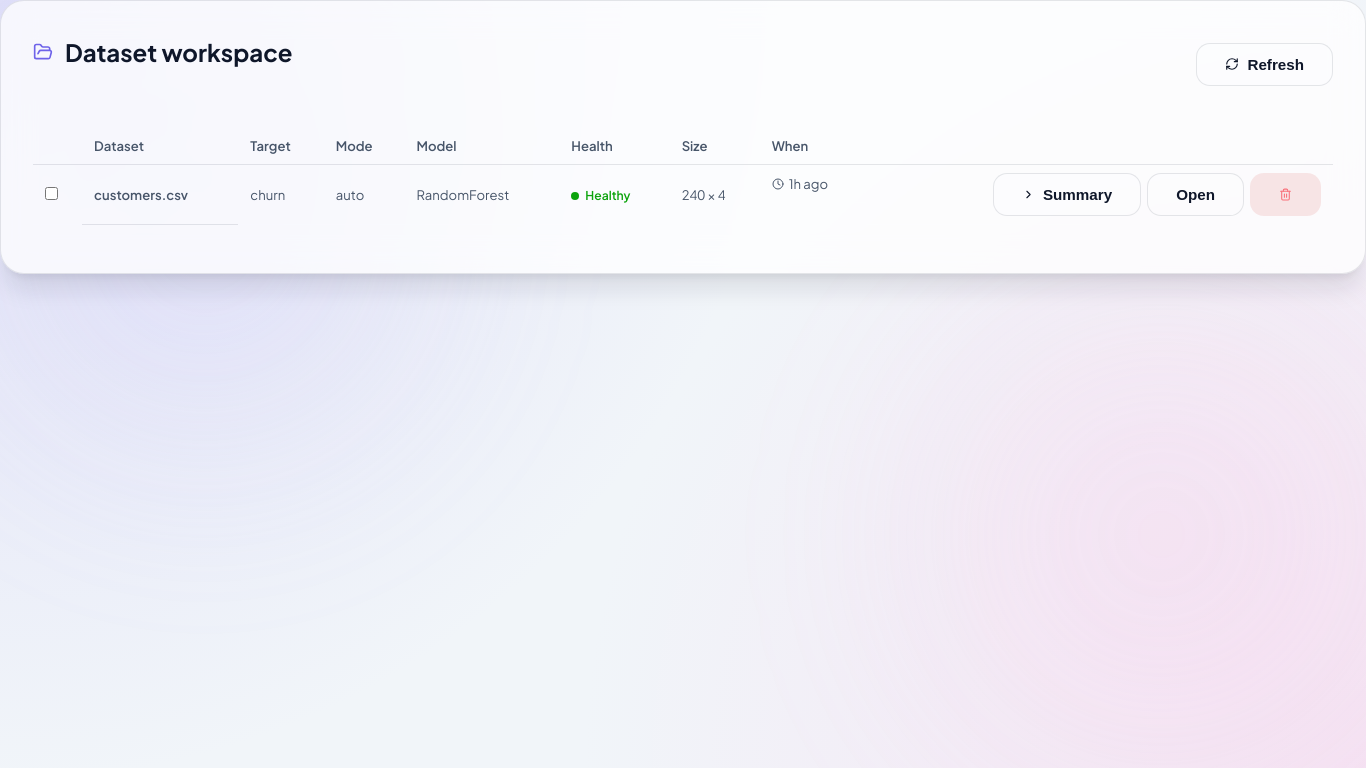
Test: Workspace › deletes a run and refreshes the list, but only after the user confirms
The width and height of the screenshot is (1366, 768).
Click the button named "Delete customers.csv": (1286,195) [1250,173,1321,216]
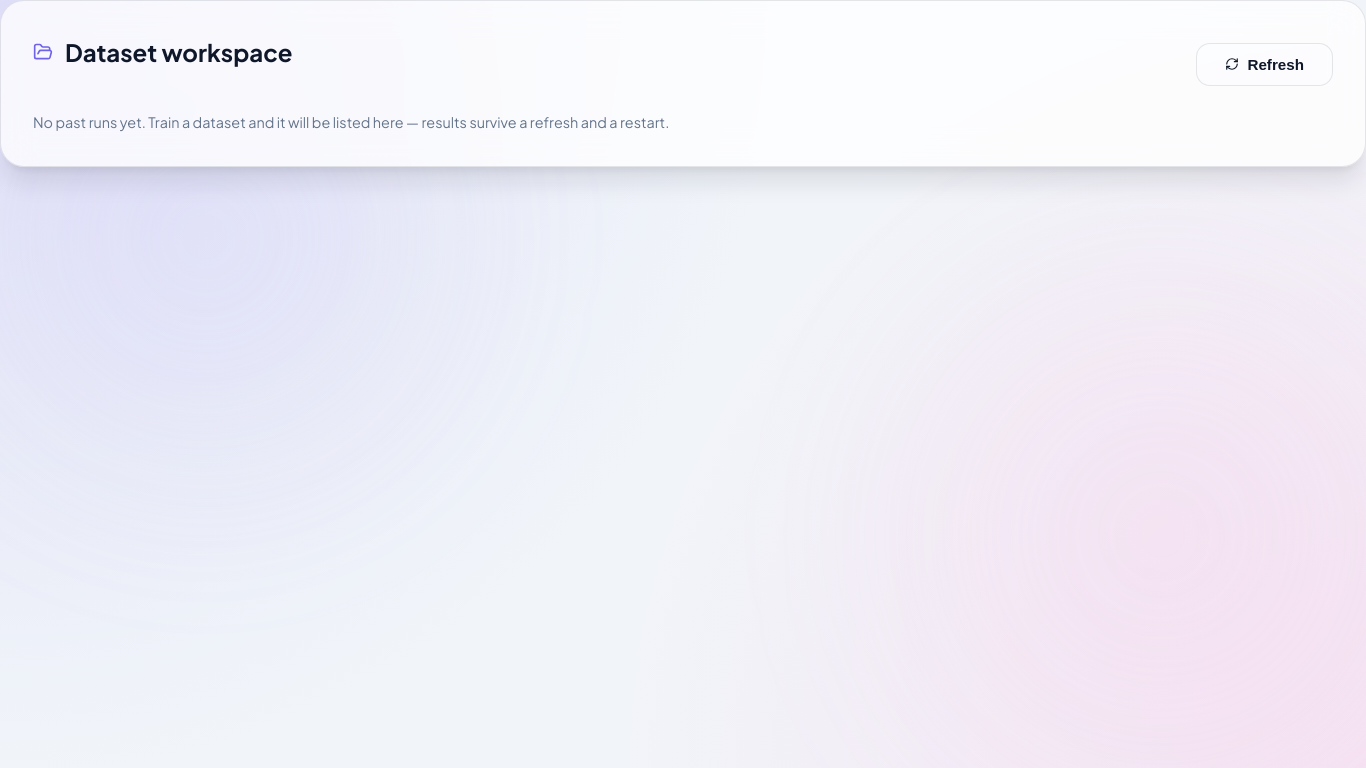
Expected: the text "No past runs yet" is shown, [33,113,669,131]
